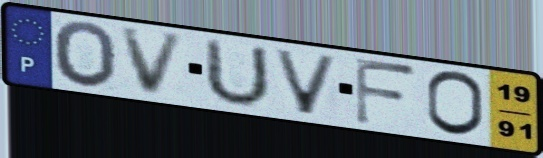F: (352, 54, 421, 128)
O: (51, 19, 120, 91), (424, 69, 488, 139)
U: (201, 36, 273, 110)
V: (270, 46, 343, 118), (117, 26, 189, 97)
